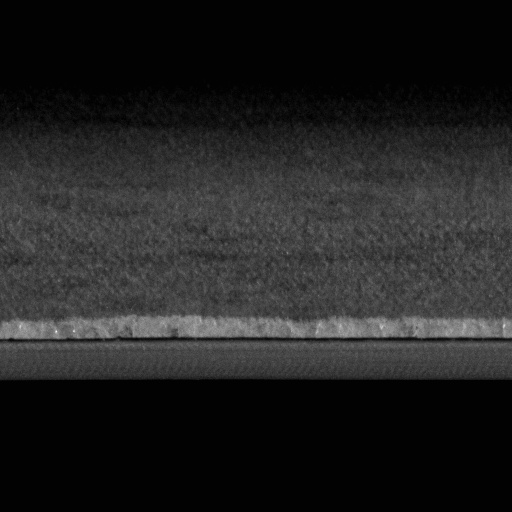jiaofeng: (0, 336, 511, 348)
